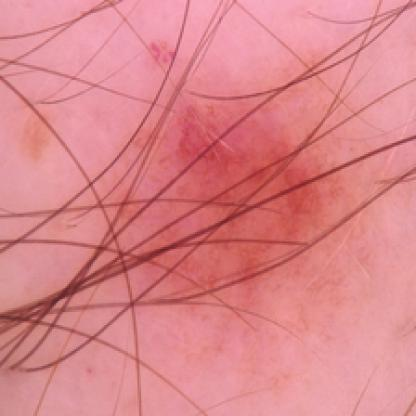benign: (136, 32, 362, 297)
